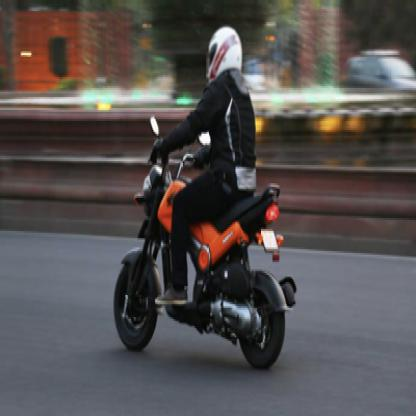Helmet: (200, 23, 248, 85)
